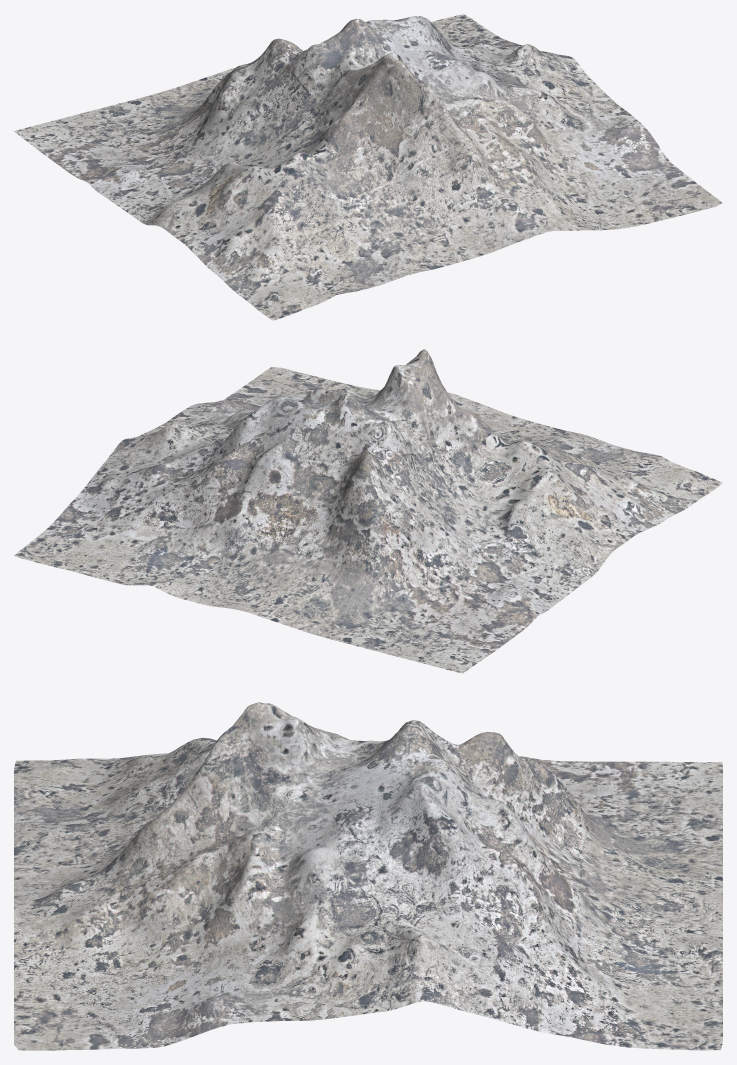
File: SM_Mountain_04.fbx
3 views of the same model, one above another, from view 1: azimuth 30°, elevation 25°; view 2: azimuth 150°, elevation 25°; view 3: azimuth 270°, elevation 25° (orthographic). The views are drawn at different scales.
Visible parts, largest first — view 1: SM_Mountain_04_LOD0; view 2: SM_Mountain_04_LOD0; view 3: SM_Mountain_04_LOD0.
Boxes of the visible parts, bbox=[...] form: SM_Mountain_04_LOD0: bbox=[14, 14, 722, 320]; SM_Mountain_04_LOD0: bbox=[14, 349, 722, 673]; SM_Mountain_04_LOD0: bbox=[14, 702, 722, 1050].
Bounding box in the file's own units: 60963 × 60942 × 18762.
Materials: 1 (1 with a texture image).
